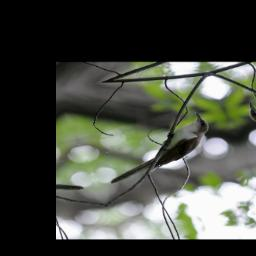Cuckoo: (87, 111, 227, 186)
